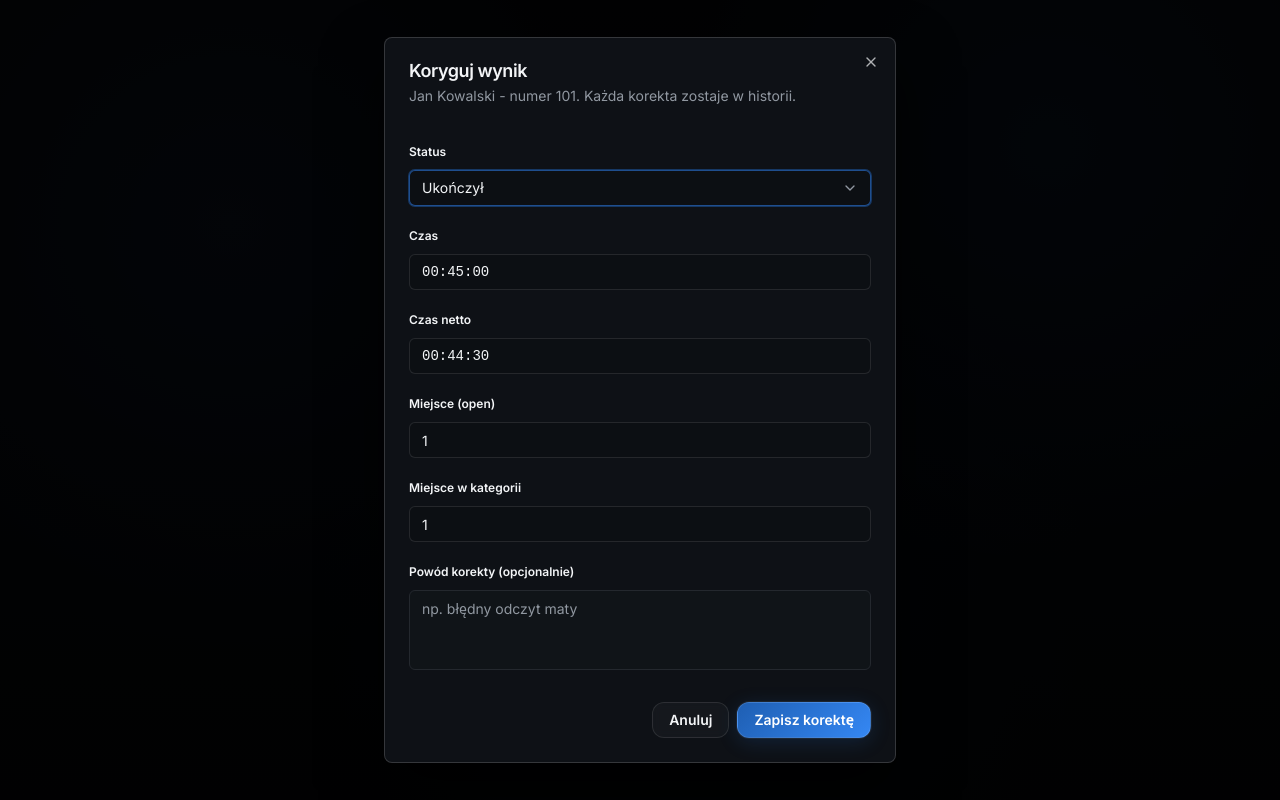
EditResultDialog net time and places › rejects a malformed net time and a non-positive place
Replace the text in the field labelled "Czas netto" with "44:30". click: (640, 356)
box: [409,338,871,374]
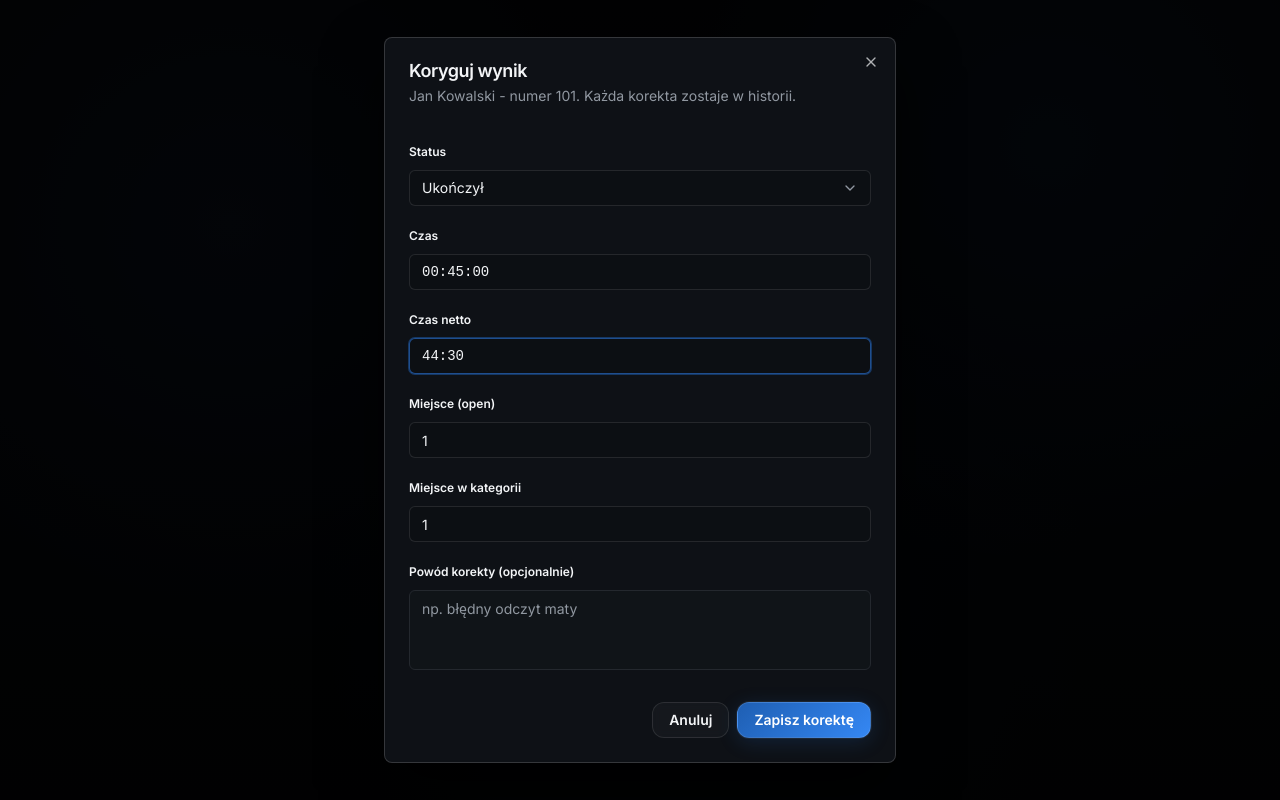
Click the button "Zapisz korektę". click: (804, 720)
box: [737,702,871,738]
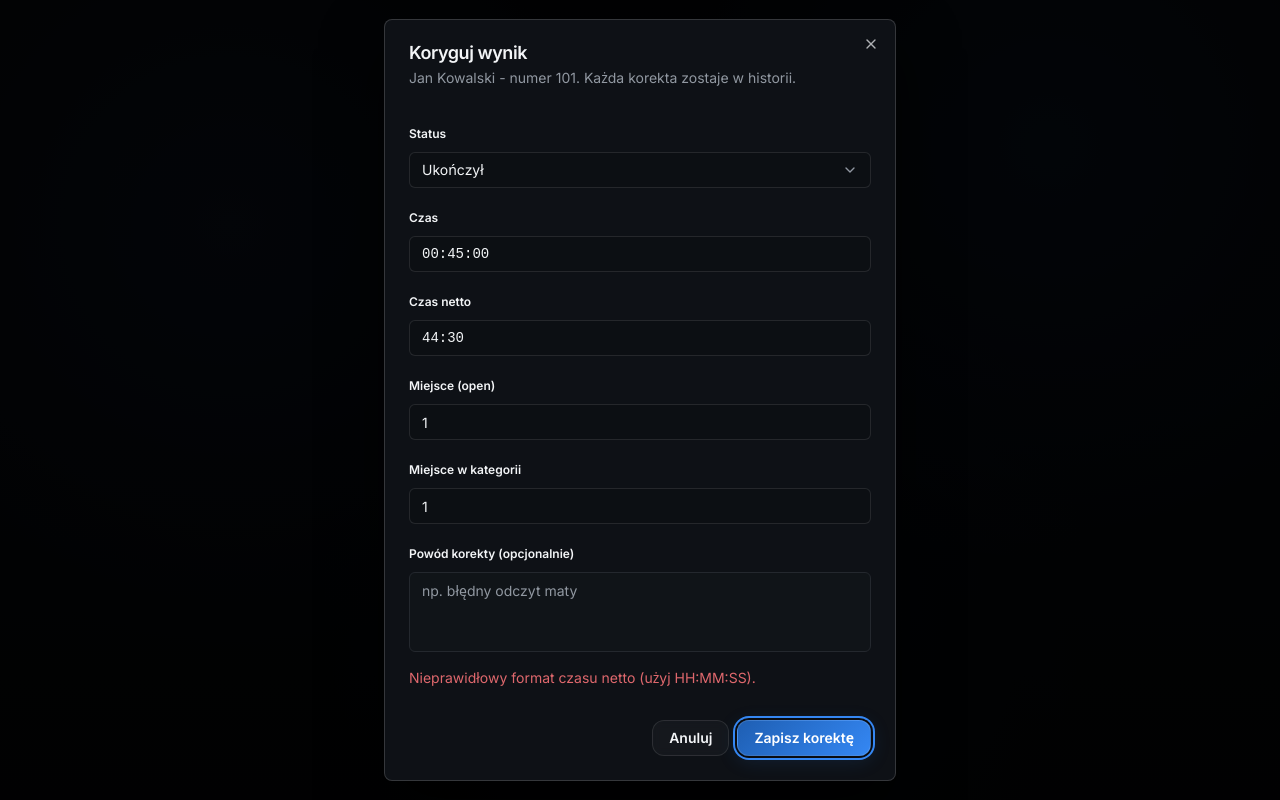
Expected: the text "Nieprawidłowy format czasu netto (użyj HH:MM:SS)." is shown, [409,669,756,686]
Replace the text in the field labelled "Czas netto" with "00:44:30". click: (640, 338)
box: [409,320,871,356]
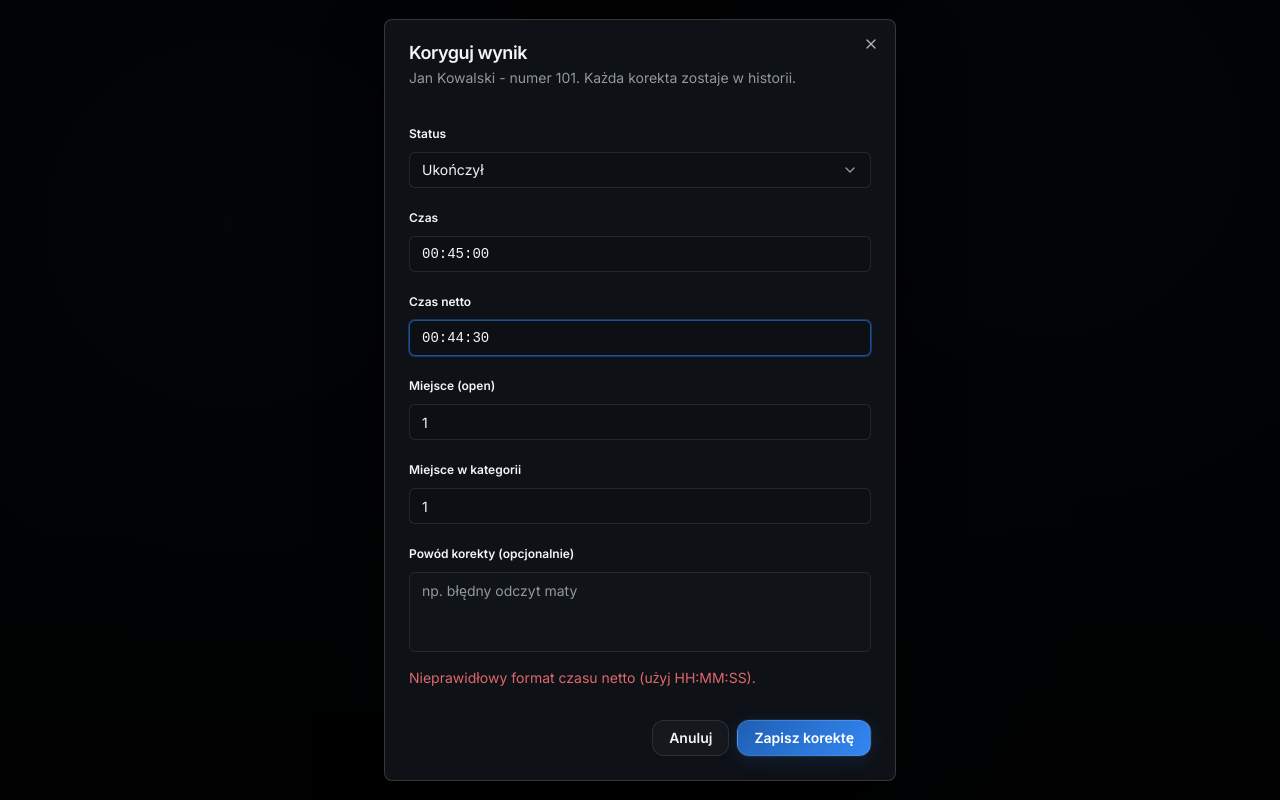
Replace the text in the field labelled "Miejsce (open)" with "0". click: (640, 422)
box: [409,404,871,440]
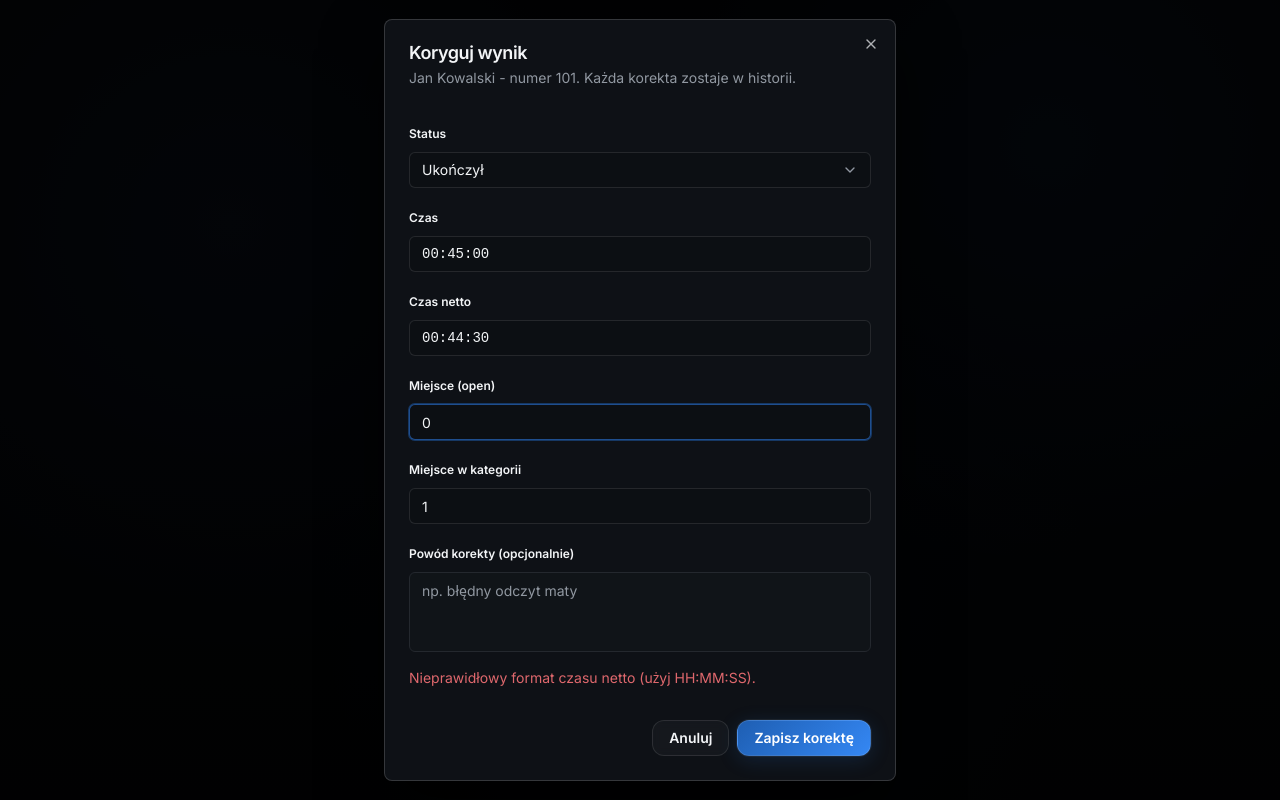
Click the button "Zapisz korektę". click: (804, 738)
box: [737,720,871,756]
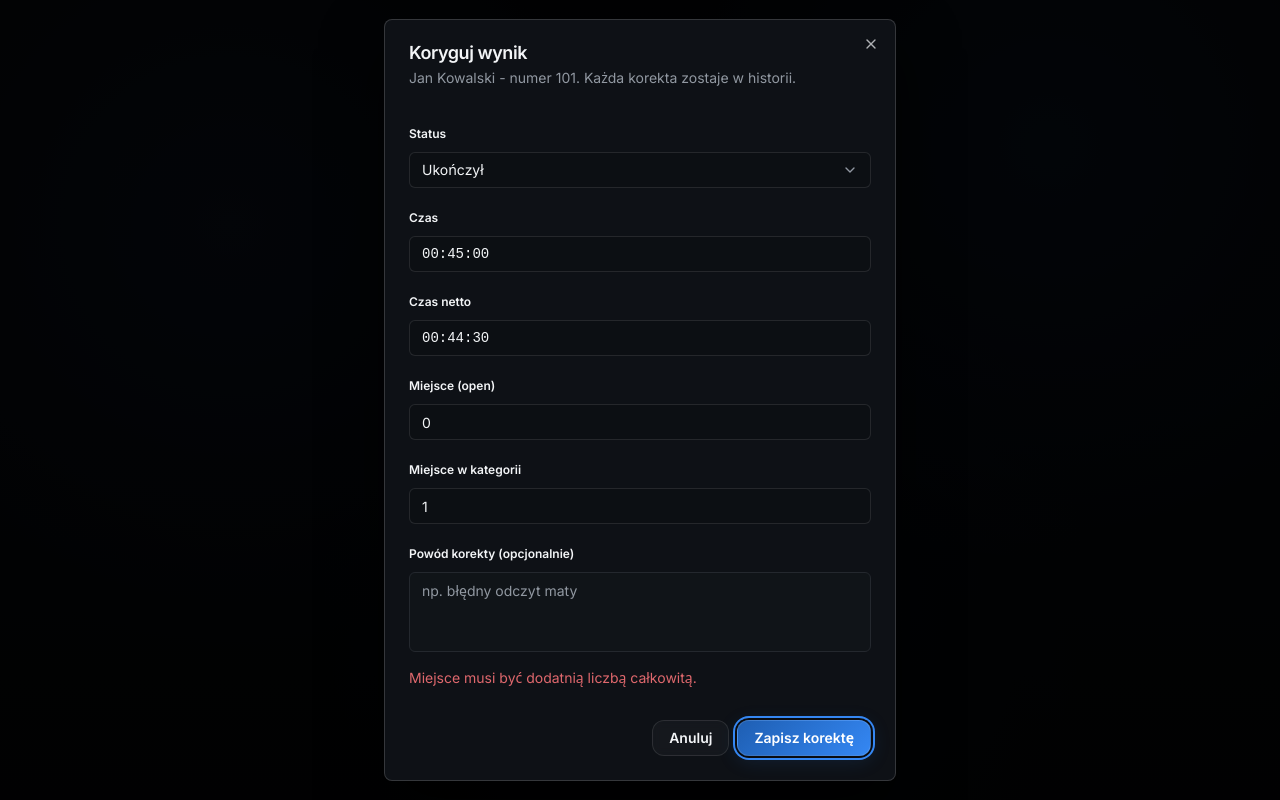
Expected: the text "Miejsce musi być dodatnią liczbą całkowitą." is shown, [409,669,697,686]
